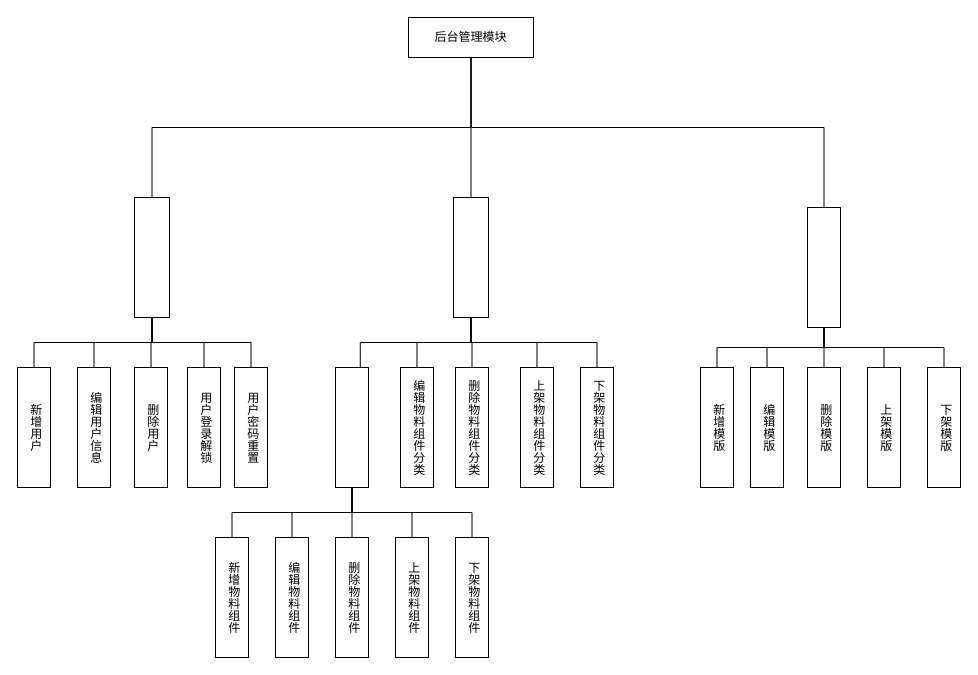
This 978x675 diagram has some shape labels left out. Each missing label, with the centre of its shape:
"新增物料组件分类" goes at pixel 351 427.
"模版库" goes at pixel 823 267.
"物料组件管理" goes at pixel 470 257.
"用户管理" goes at pixel 152 257.
